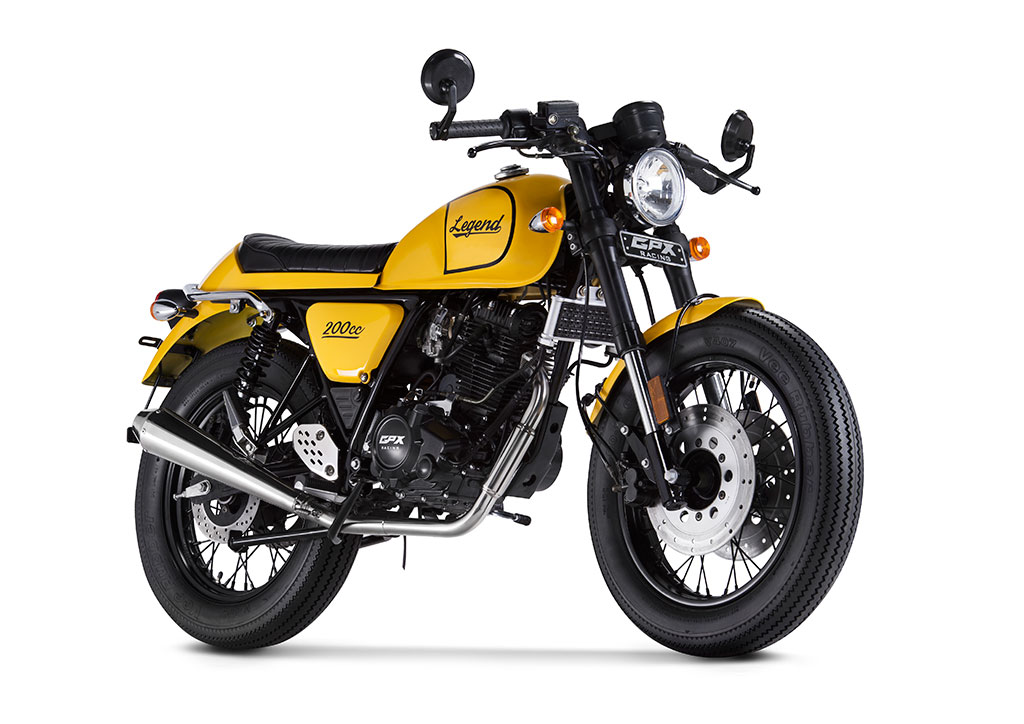motorcycle: (133, 96, 860, 672)
